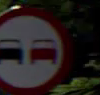No overtake: (0, 5, 70, 88)
